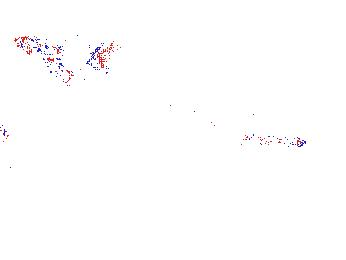glassfish: (156, 90, 240, 145), (44, 64, 135, 112)
redtail glassfish: (9, 33, 109, 61), (243, 128, 308, 150)
